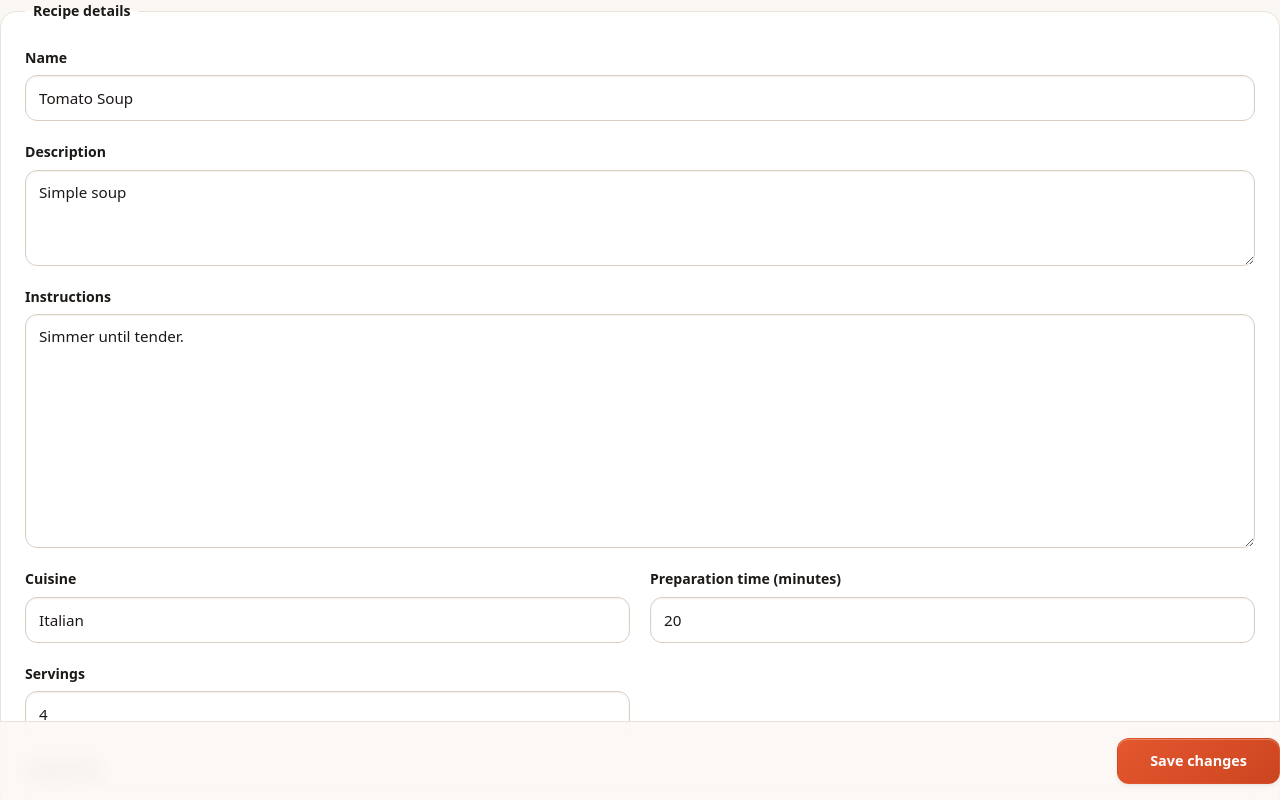
RecipeForm › rejects duplicate canonical ingredient selections
Click the button "Save changes" at (1199, 761), box [1117,738,1279,784]
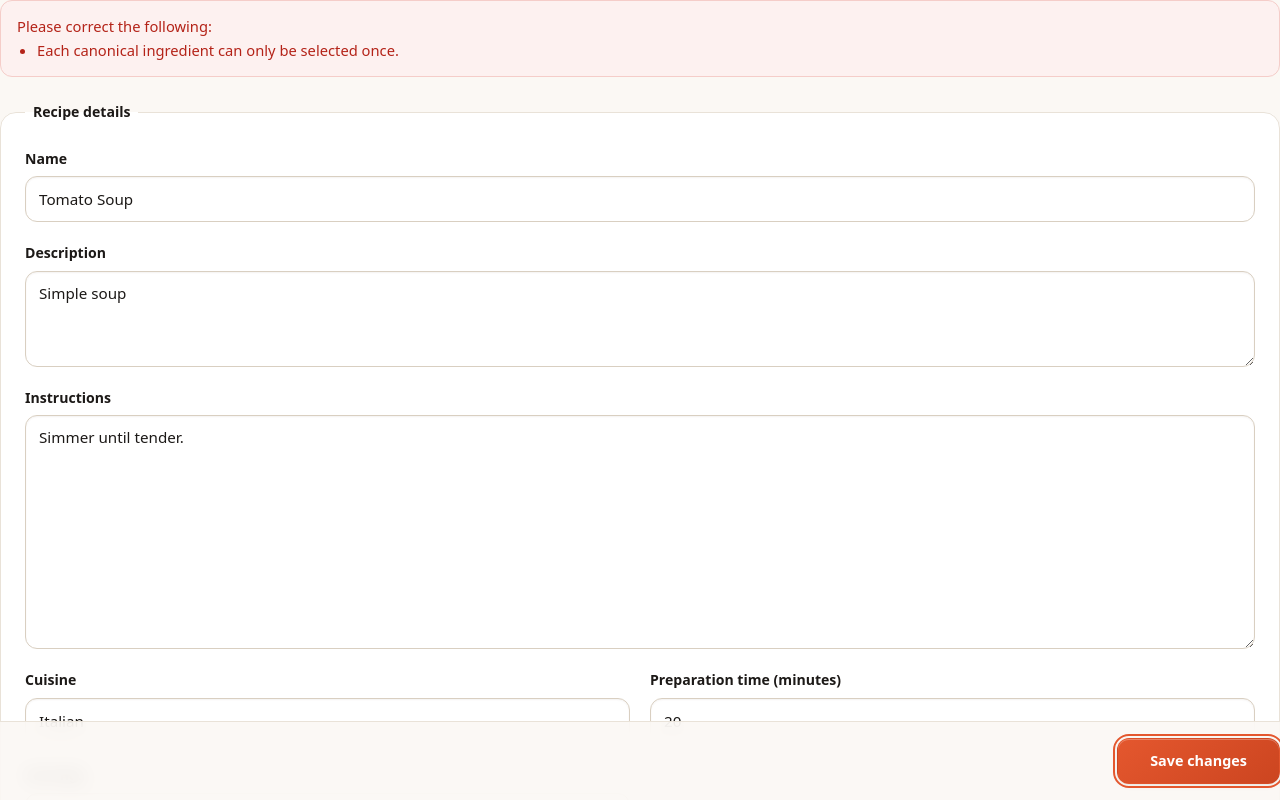
Now the message shows "Each canonical ingredient can only be selected once.", box [37,40,399,60]
